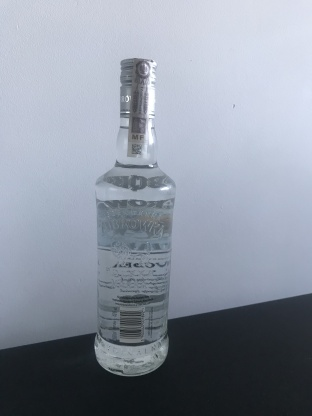nakretka: (117, 54, 159, 121)
